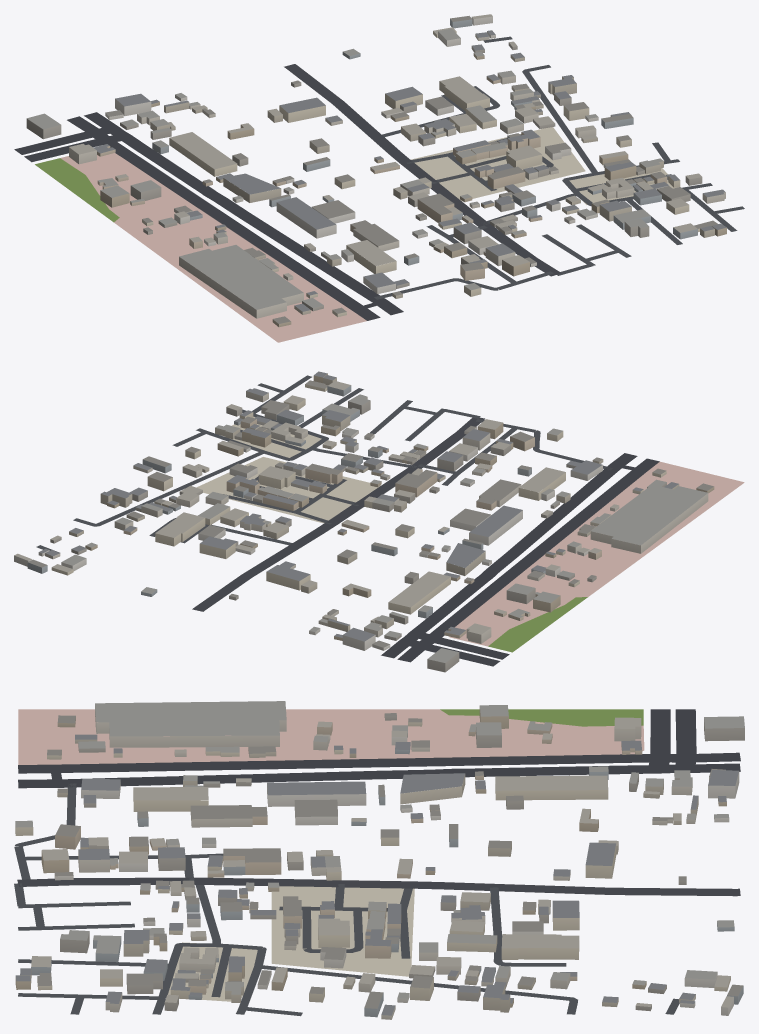
3 views of the same model, one above another, from view 1: azimuth 30°, elevation 25°; view 2: azimuth 150°, elevation 25°; view 3: azimuth 270°, elevation 25° (orthographic). The views are drawn at different scales.
Visible parts, largest first — view 1: buildings_roofs, buildings_walls, roads, landuse; view 2: buildings_roofs, buildings_walls, roads, landuse; view 3: buildings_roofs, buildings_walls, roads, landuse.
Boxes of the visible parts, x1,y1,x2,y2 form: buildings_roofs: (27,14,726,323); buildings_walls: (26,16,726,327); roads: (14,36,744,320); landuse: (35,127,678,342); buildings_roofs: (14,371,713,662); buildings_walls: (14,373,714,672); roads: (36,375,659,666); landuse: (196,416,744,652); buildings_roofs: (15,701,744,1015); buildings_walls: (15,706,744,1019); roads: (14,709,740,1016); landuse: (18,709,644,1001).
Size of the model in its own units: 509 by 9.62 by 506.
